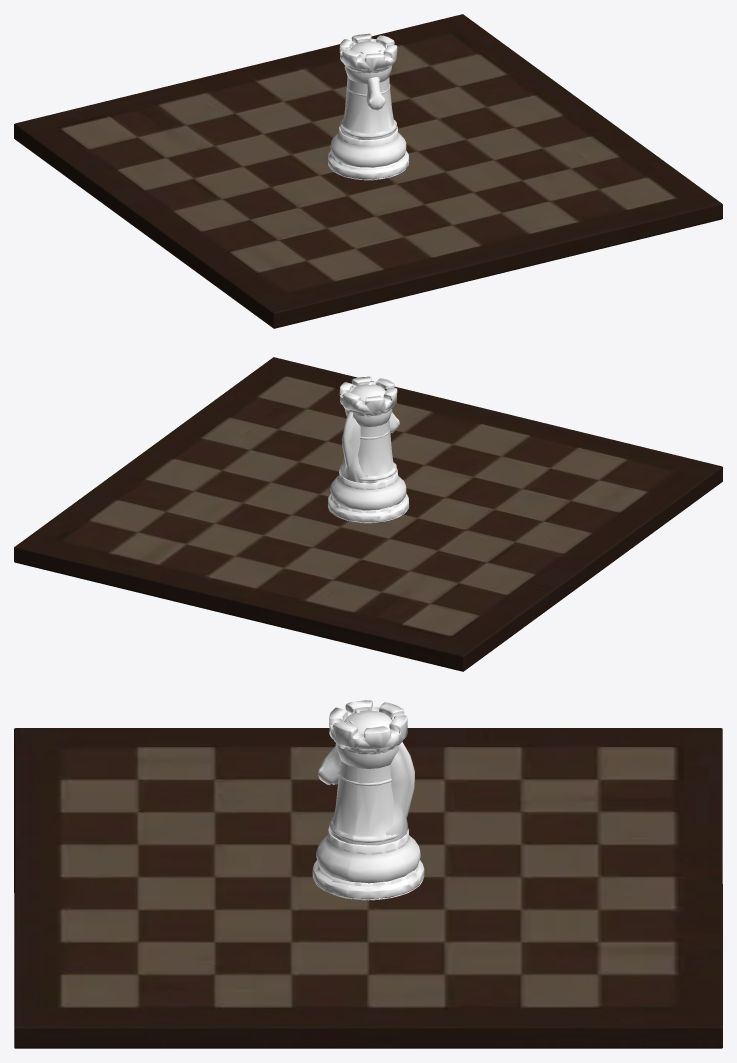
File: growth-board.glb
The picture shows the model from 3 angles, top to bottom: view 1: azimuth 30°, elevation 25°; view 2: azimuth 150°, elevation 25°; view 3: azimuth 270°, elevation 25°; orthographic projection. The views are drawn at different scales.
Visible parts, largest first — view 1: board, rook, pawn, knight; view 2: board, rook, knight, pawn; view 3: board, rook, knight, pawn.
Part boxes in pixels (left/top/right/bottom): board: left=14, top=14, right=722, bottom=328; rook: left=328, top=33, right=408, bottom=180; pawn: left=331, top=41, right=404, bottom=169; knight: left=332, top=49, right=397, bottom=167; board: left=14, top=357, right=722, bottom=671; rook: left=328, top=376, right=409, bottom=523; knight: left=331, top=382, right=403, bottom=512; pawn: left=332, top=384, right=405, bottom=512; board: left=14, top=728, right=722, bottom=1048; rook: left=312, top=700, right=424, bottom=900; knight: left=318, top=709, right=418, bottom=885; pawn: left=317, top=710, right=419, bottom=886.
Bounding box in the file's own units: 4 × 1.14 × 4.
2 materials, 1 textured.
